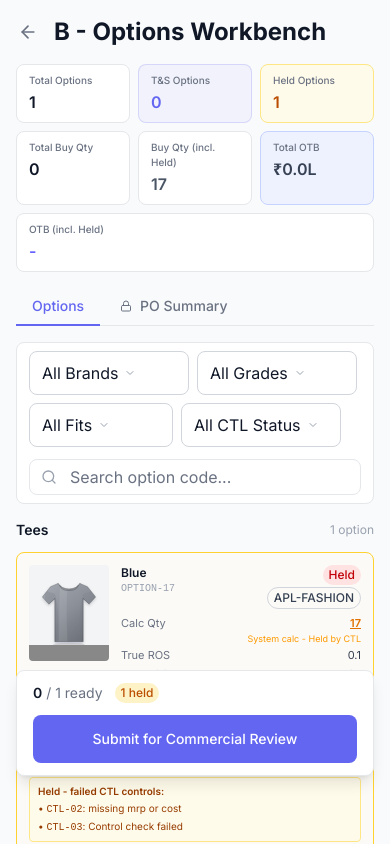
Test: API bindings retain the Category design › keeps option cards, filters and the quantity modal while using real calculations
Check: the field with placeholder "Search option code..." is shown, box [29,459,361,495]
Check: the button "PO Summary" is shown, box [104,288,244,326]
Click the button "17" at (356, 623), box [350,615,361,632]
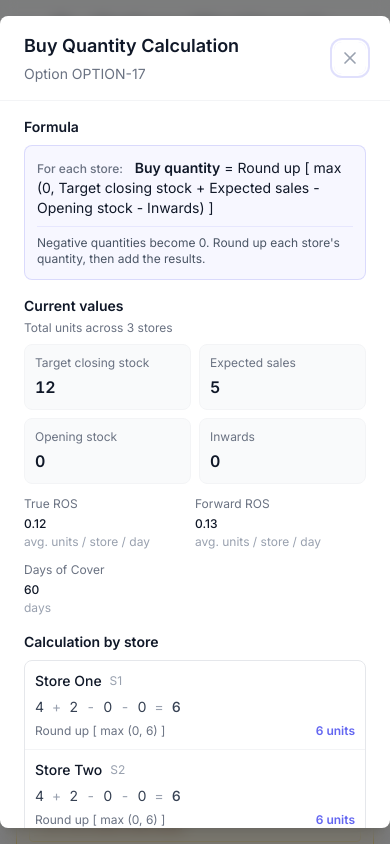
Check: the heading "Buy Quantity Calculation" is shown, box [24,32,239,60]
Check: the text "Total units across 3 stores" is shown, box [24,320,173,335]
Check: the text "Days of Cover" is shown, box [24,562,104,577]
